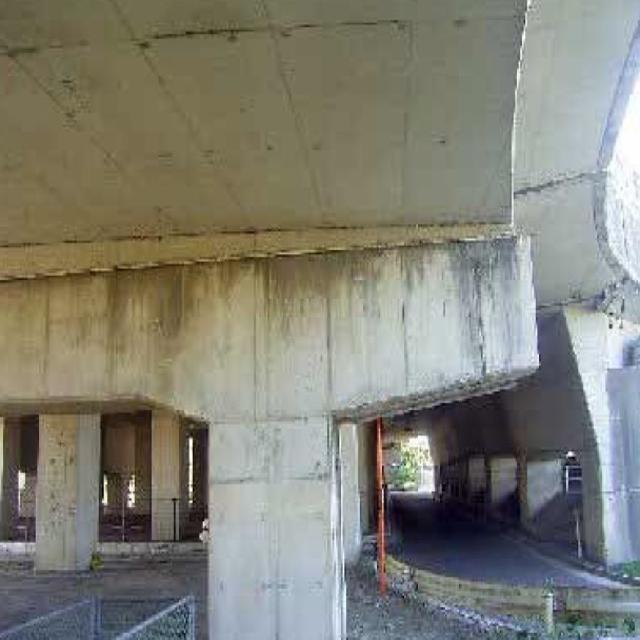spalling: (104, 235, 517, 348)
